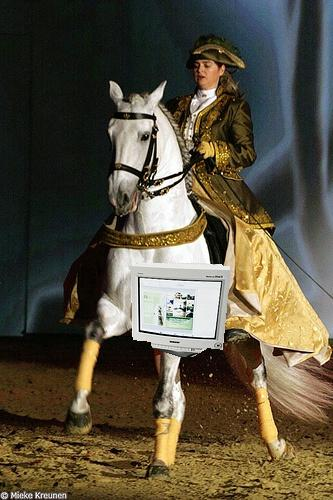tampered: (131, 264, 230, 357)
